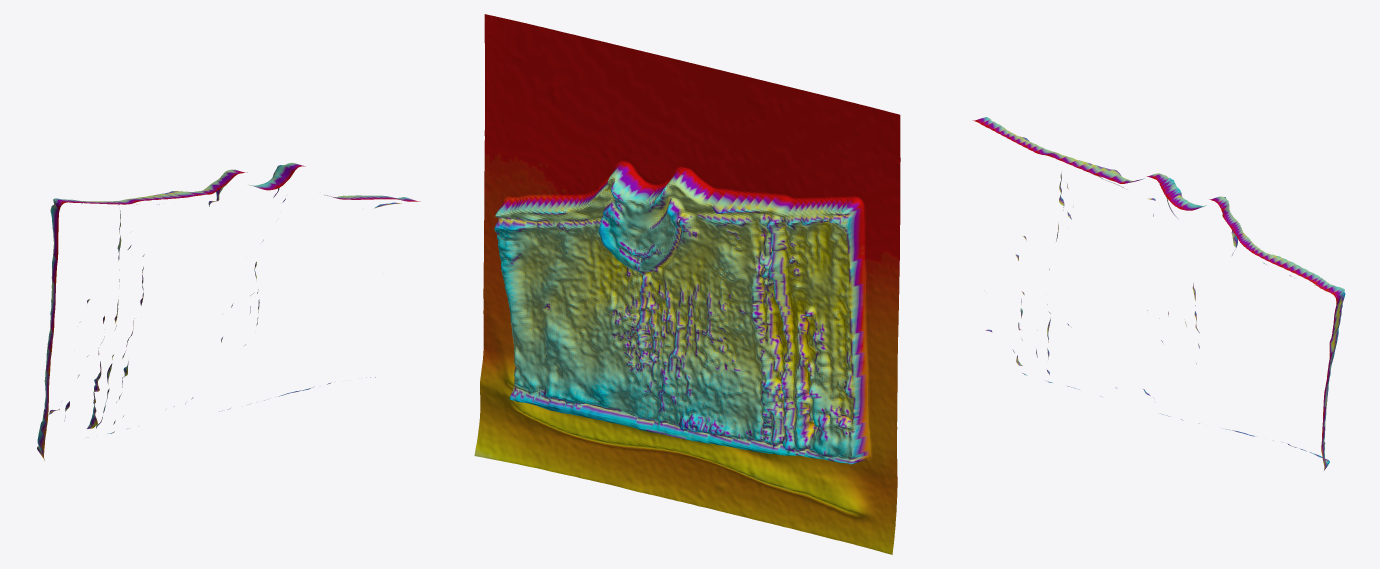
The picture shows the model from 3 angles, left to right: view 1: azimuth 30°, elevation 25°; view 2: azimuth 150°, elevation 25°; view 3: azimuth 330°, elevation 25°; orthographic projection. The views are drawn at different scales.
Visible parts, largest first — view 1: world; view 2: world; view 3: world.
Part boxes in pixels (x1=…): world: x1=37, y1=162, x2=420, y2=460; world: x1=474, y1=14, x2=900, y2=554; world: x1=973, y1=117, x2=1345, y2=470.
Size of the model in its own units: 299 by 299 by 30.
